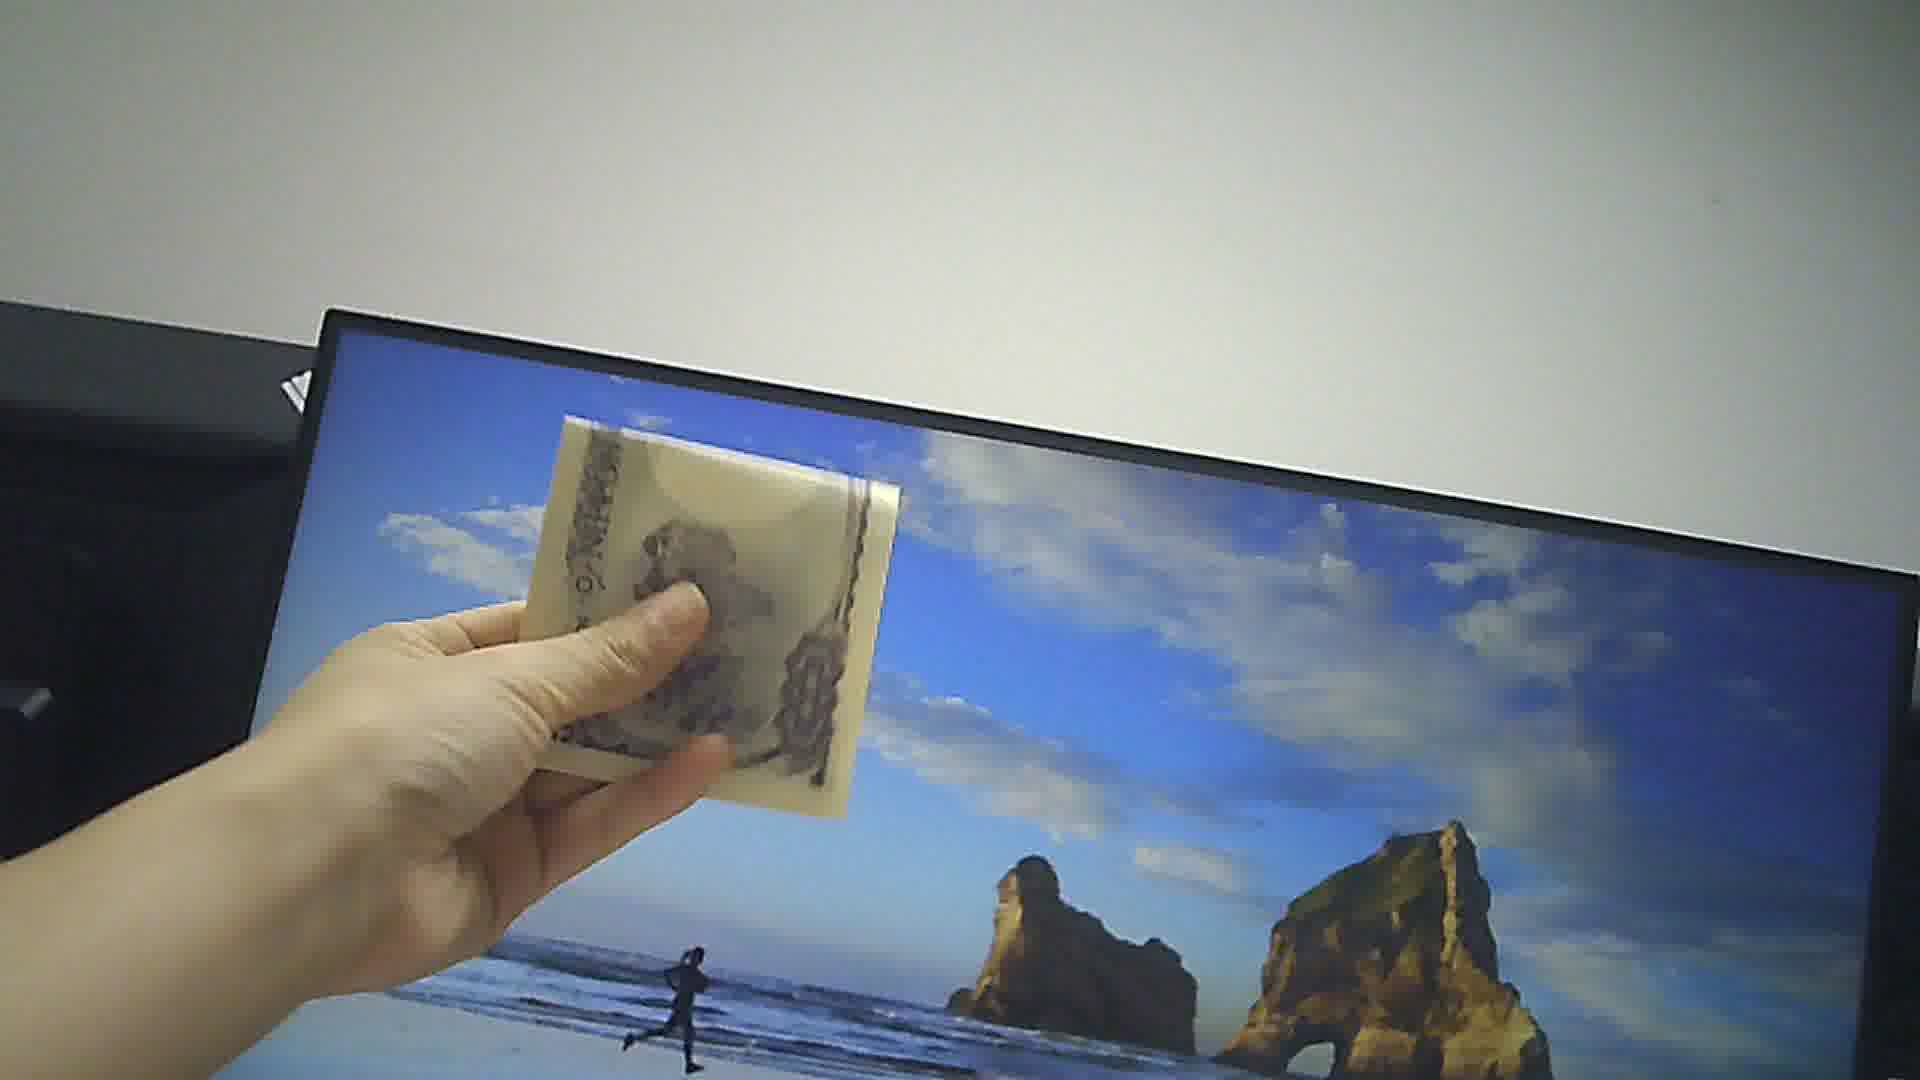5,000 Yen: (505, 404, 915, 827)
